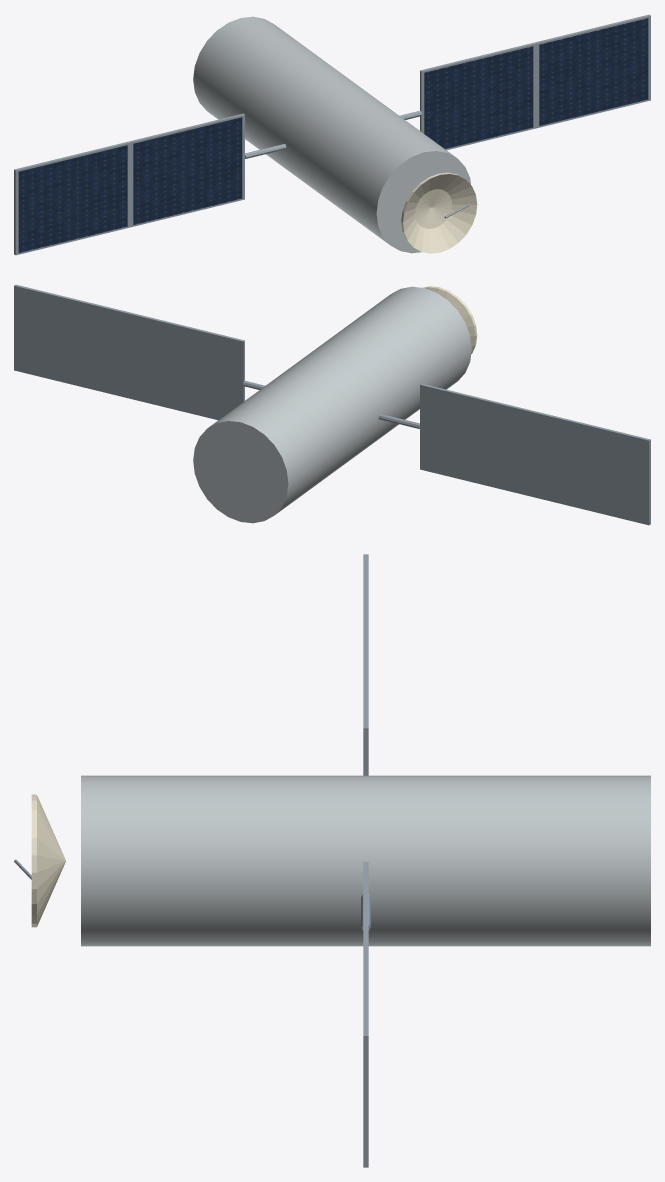
Rendered from ref-jumpseat-6791.glb.
The picture shows the model from 3 angles, top to bottom: view 1: azimuth 30°, elevation 25°; view 2: azimuth 150°, elevation 25°; view 3: azimuth 270°, elevation 25°; orthographic projection. The views are drawn at different scales.
Parts seen in each view (by area): view 1: Photovoltaic laminates (×4), Spacecraft body, Array frame (×4), Reflector dish; view 2: Array frame (×4), Spacecraft body, Reflector dish; view 3: Spacecraft body, Reflector dish, Array frame.
Part boxes in pixels (left/top/right/bottom): Photovoltaic laminates (×4): left=18, top=18, right=648, bottom=252; Spacecraft body: left=193, top=16, right=470, bottom=253; Array frame (×4): left=14, top=14, right=650, bottom=255; Reflector dish: left=401, top=172, right=477, bottom=253; Array frame (×4): left=14, top=284, right=650, bottom=525; Spacecraft body: left=193, top=286, right=471, bottom=523; Reflector dish: left=423, top=286, right=477, bottom=353; Spacecraft body: left=81, top=775, right=650, bottom=946; Reflector dish: left=31, top=794, right=65, bottom=927; Array frame: left=363, top=949, right=368, bottom=1167.
Size of the model in its own units: 10 by 1.5 by 5.59.
4 materials, 1 textured.
